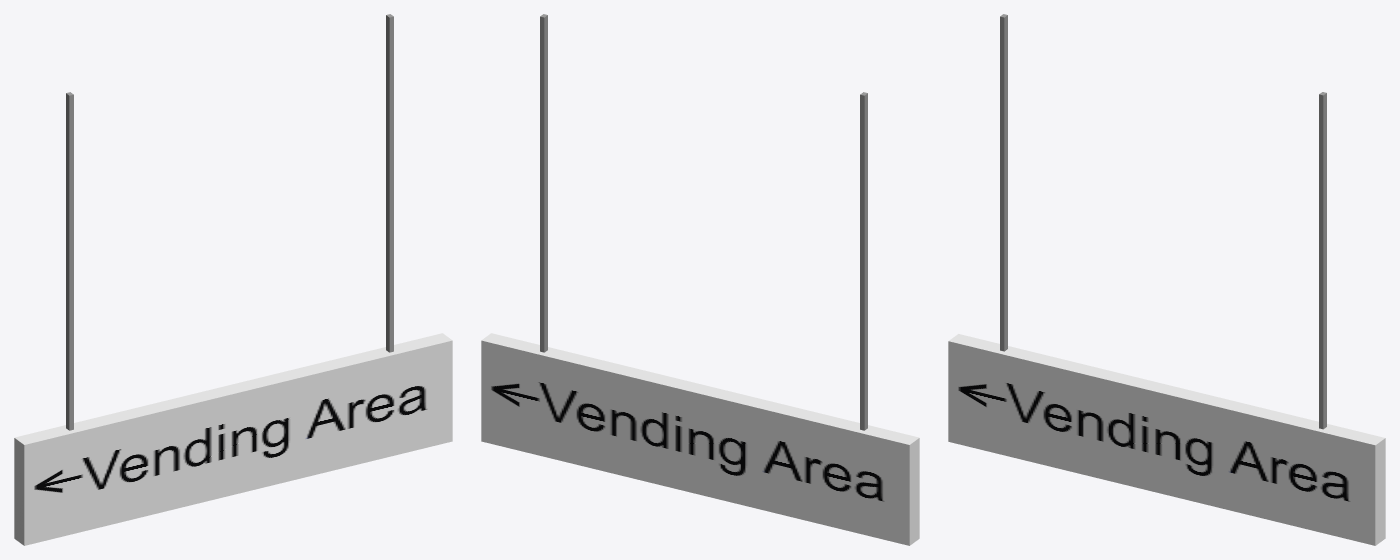
Rendered from vending_Area_sign.fbx.
3 renders of one model, left to right at view 1: azimuth 30°, elevation 25°; view 2: azimuth 150°, elevation 25°; view 3: azimuth 330°, elevation 25°, orthographic.
Visible parts, largest first — view 1: sign, string2, string1; view 2: sign, string2, string1; view 3: sign, string2, string1.
Part boxes in pixels (<box>): sign: <box>14,333,452,545</box>; string2: <box>386,14,393,352</box>; string1: <box>66,92,73,430</box>; sign: <box>481,333,919,545</box>; string2: <box>540,14,547,352</box>; string1: <box>860,92,867,430</box>; sign: <box>948,334,1385,545</box>; string2: <box>1319,92,1326,429</box>; string1: <box>1000,14,1007,351</box>.
Bounding box in the file's own units: 1.41 × 1.37 × 0.0576.
2 materials, 1 textured.
